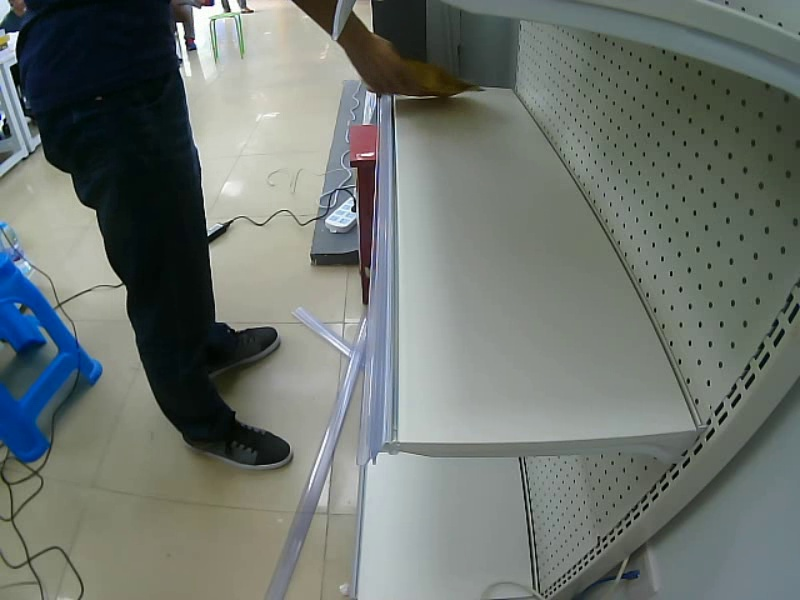bld069: (363, 54, 488, 99)
